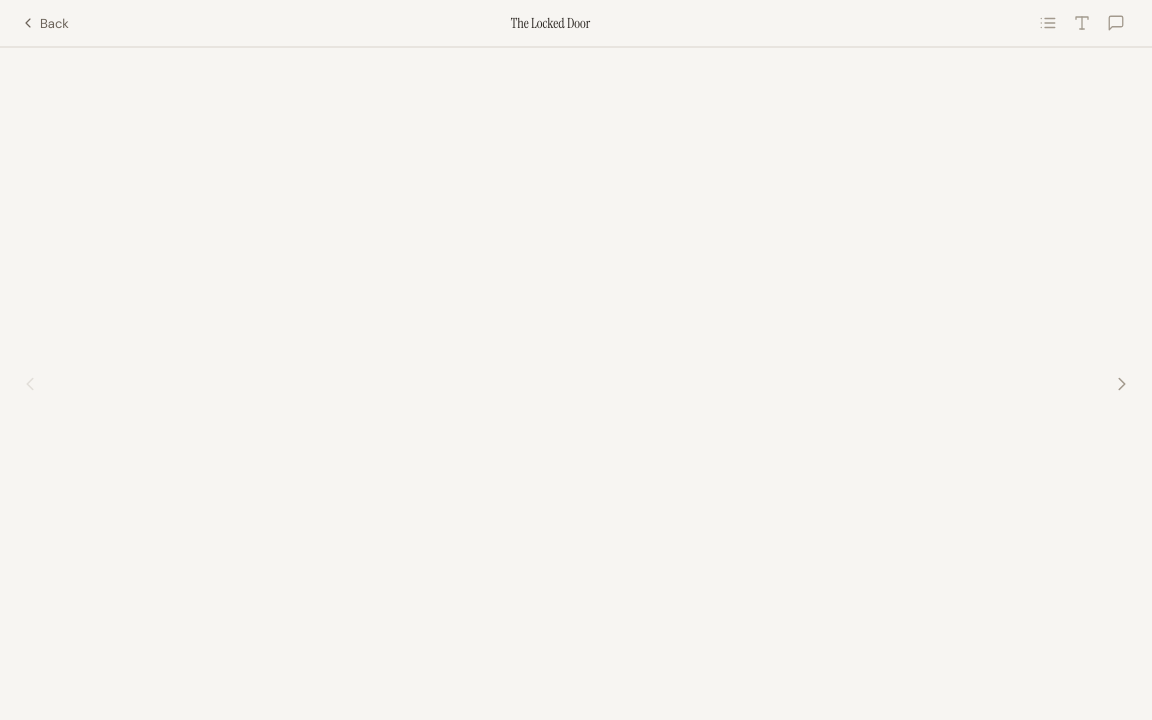
ReaderScreen › names the chapter the reader is in, beside the book
Click the button named "Contents".
click(1048, 23)  # box left=1032, top=7, right=1064, bottom=39
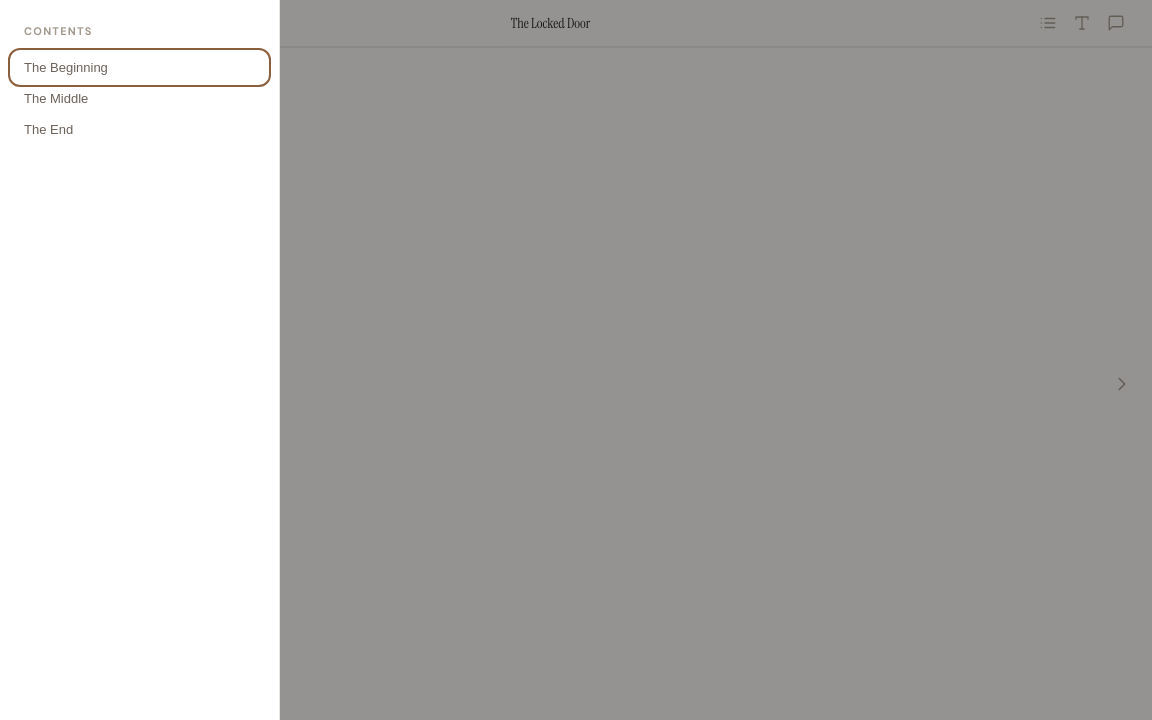
Click the button "The Middle".
click(140, 98)  # box left=12, top=83, right=267, bottom=114
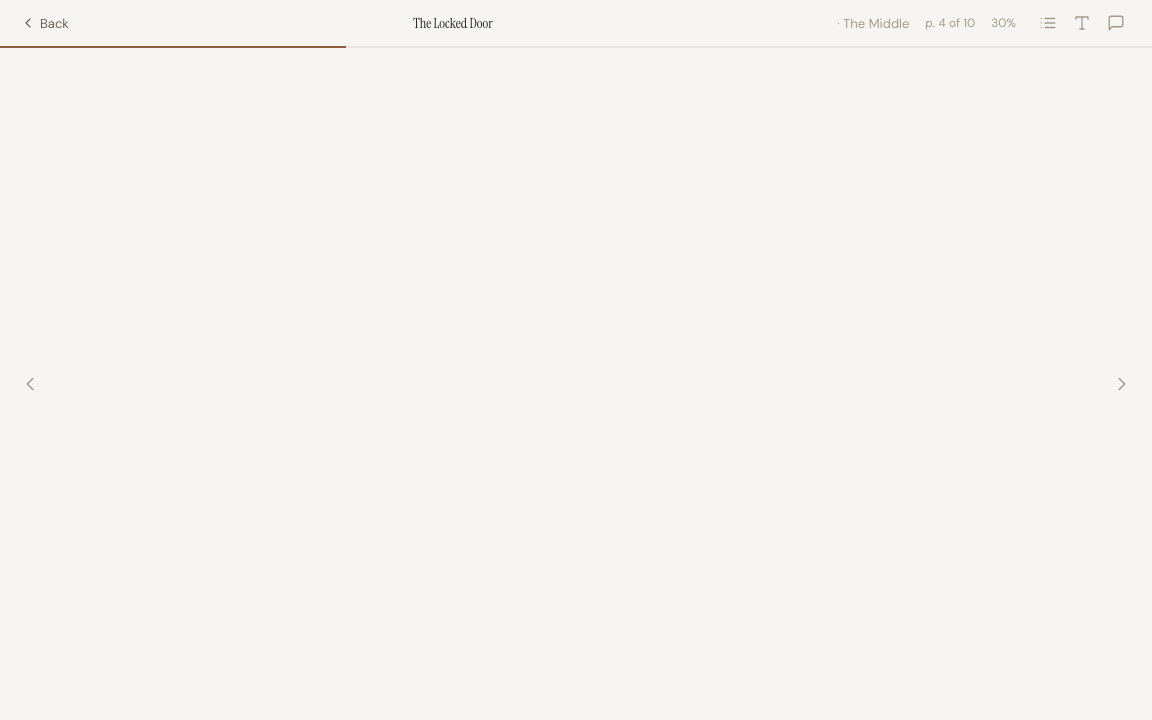
Result: the text "· The Middle" is shown at left=837, top=14, right=909, bottom=32
